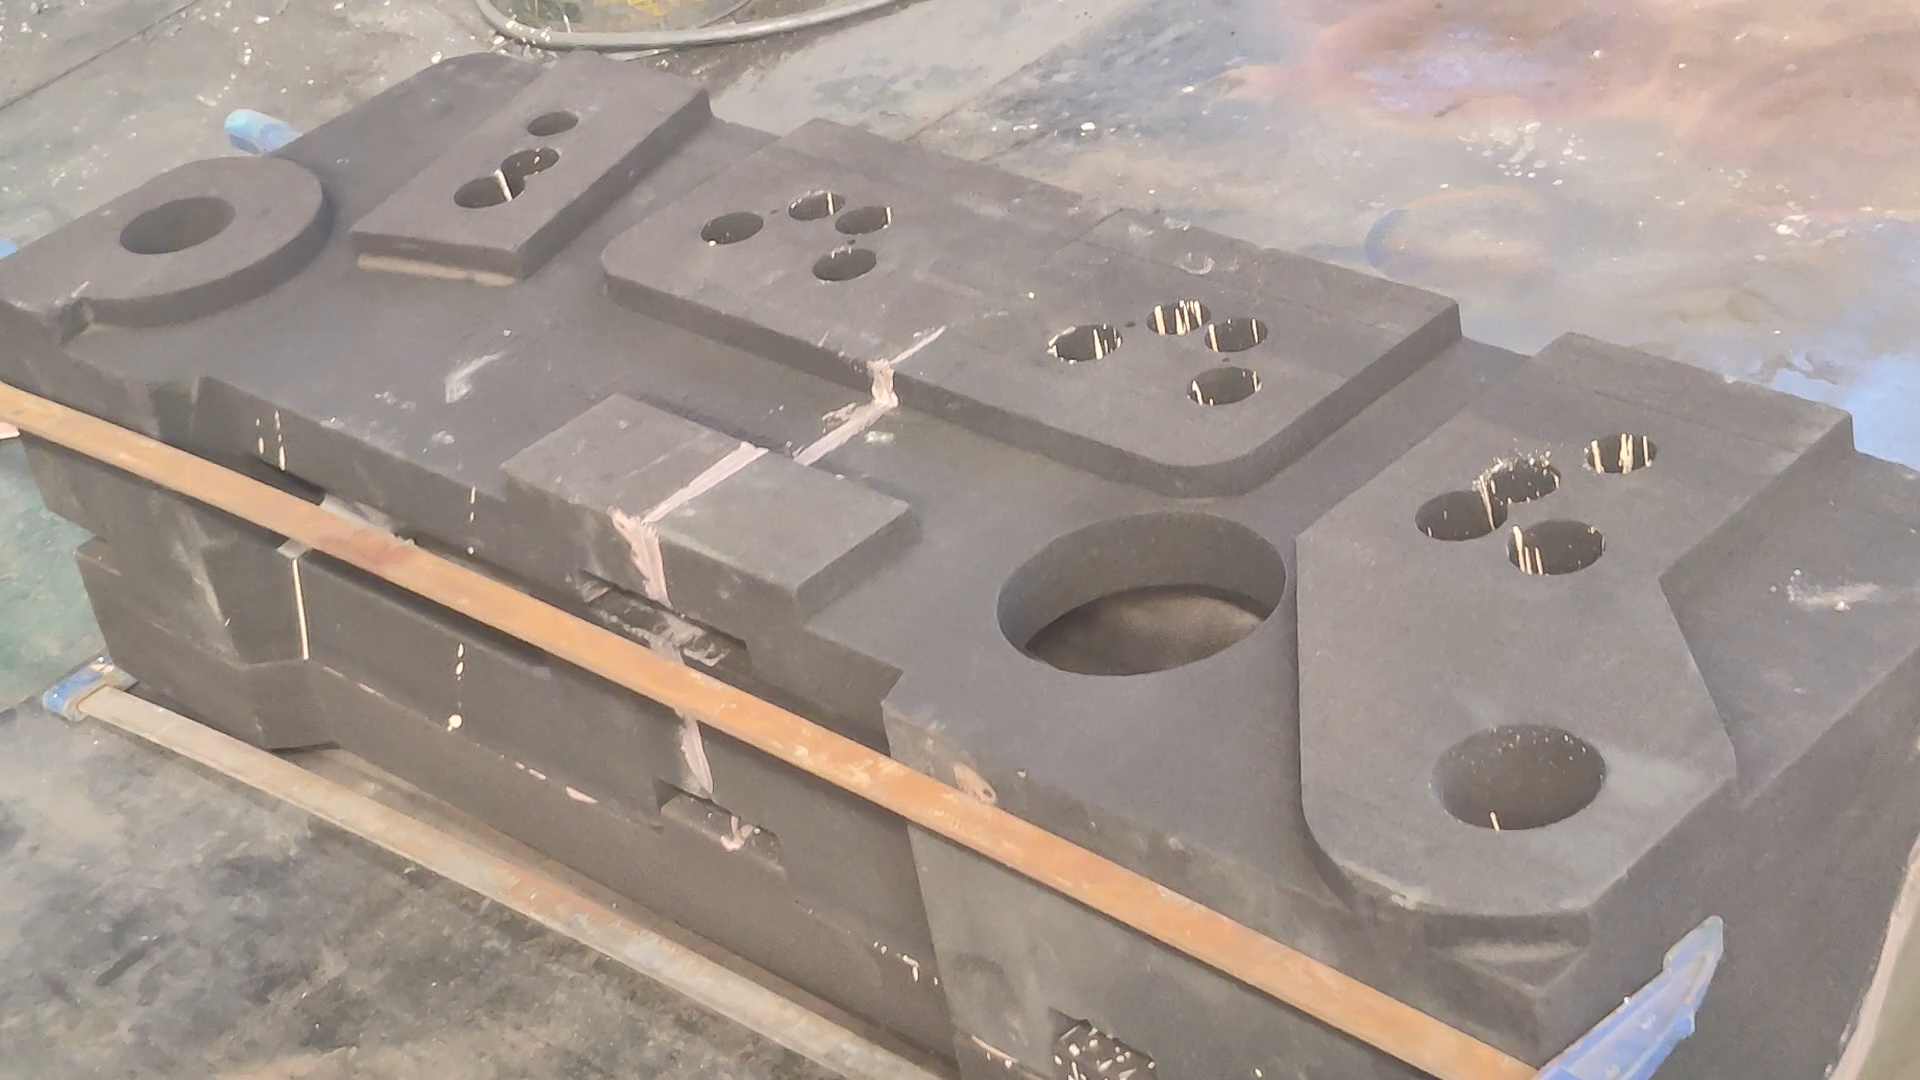pouring hole: (1429, 724, 1610, 829), (116, 193, 237, 255)
